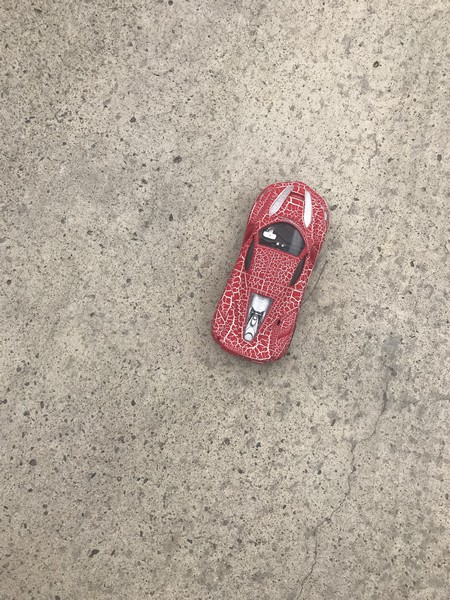RC: (208, 179, 333, 367)
